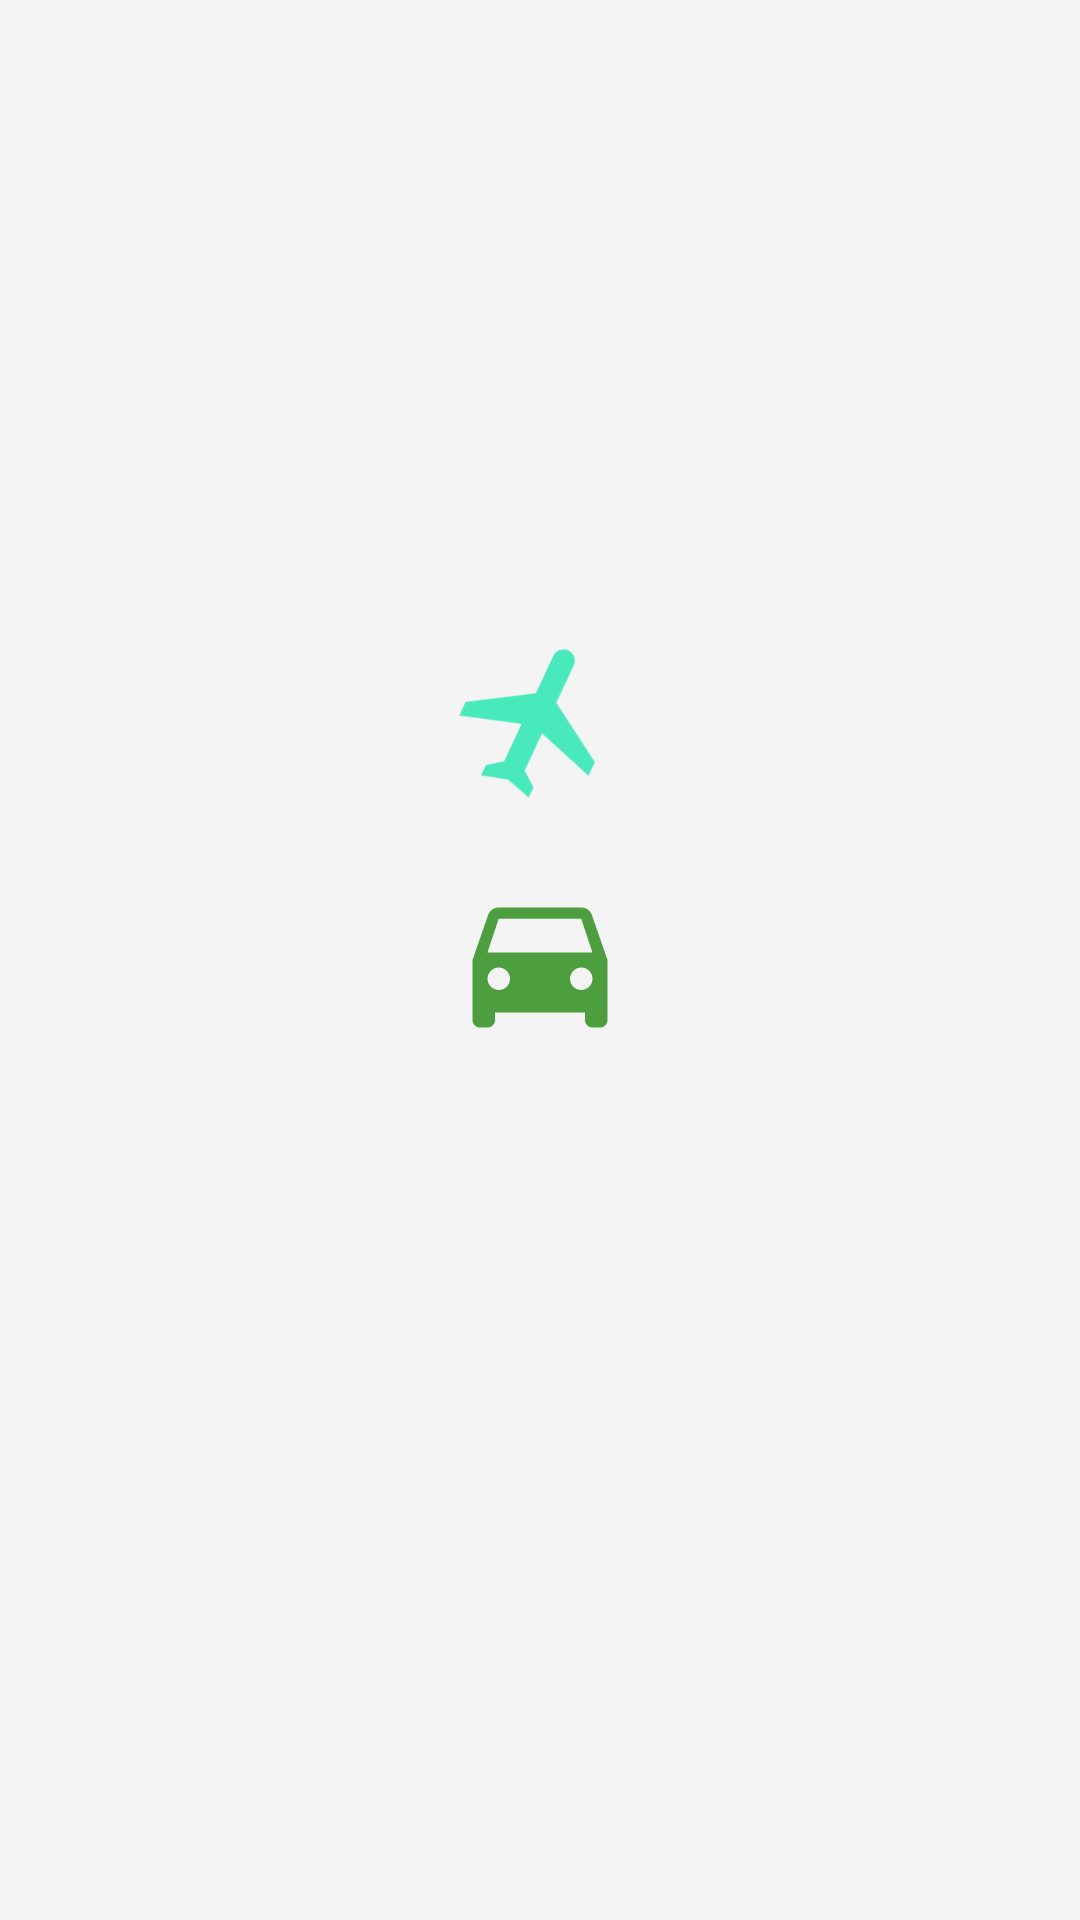

Icons on this 1080px×1920px Android screen, each with its box as [left=x1, top=y1, right=x2, bottom=y2]:
car: [left=472, top=907, right=608, bottom=1028]
